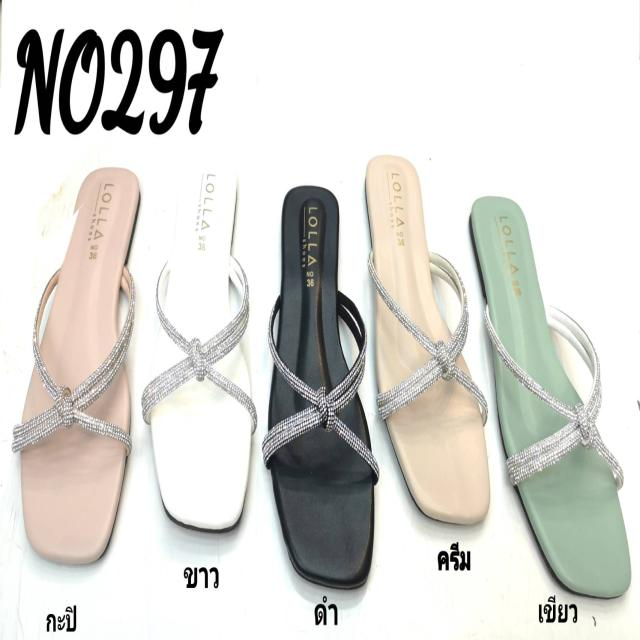black: (270, 189, 377, 584)
cream: (362, 151, 492, 528)
green: (467, 194, 634, 601)
kapi: (22, 170, 137, 566)
white: (150, 167, 256, 529)
